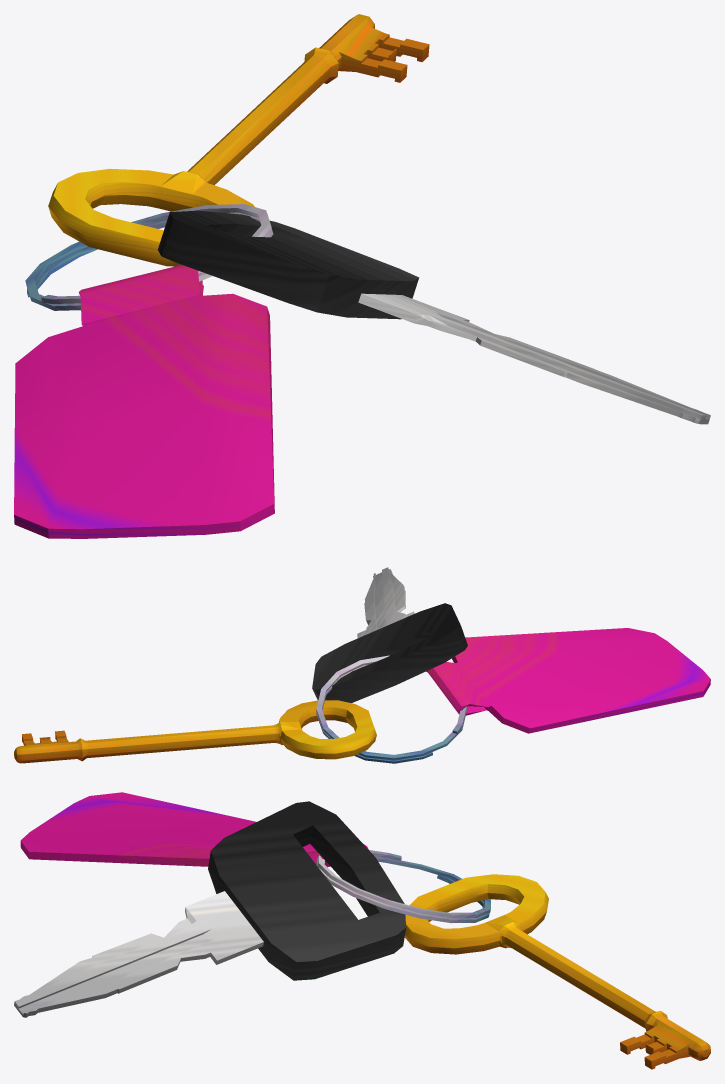
File: keys.glb
3 views of the same model, one above another, from view 1: azimuth 30°, elevation 25°; view 2: azimuth 150°, elevation 25°; view 3: azimuth 270°, elevation 25° (orthographic). The views are drawn at different scales.
Visible parts, largest first — view 1: keys; view 2: keys; view 3: keys.
Part boxes in pixels (bbox=[...]): keys: bbox=[14, 14, 710, 538]; keys: bbox=[14, 567, 710, 763]; keys: bbox=[14, 792, 710, 1069].
Bounding box in the file's own units: 0.8215 × 0.1434 × 0.8844.
Materials: 2 (2 with a texture image).
